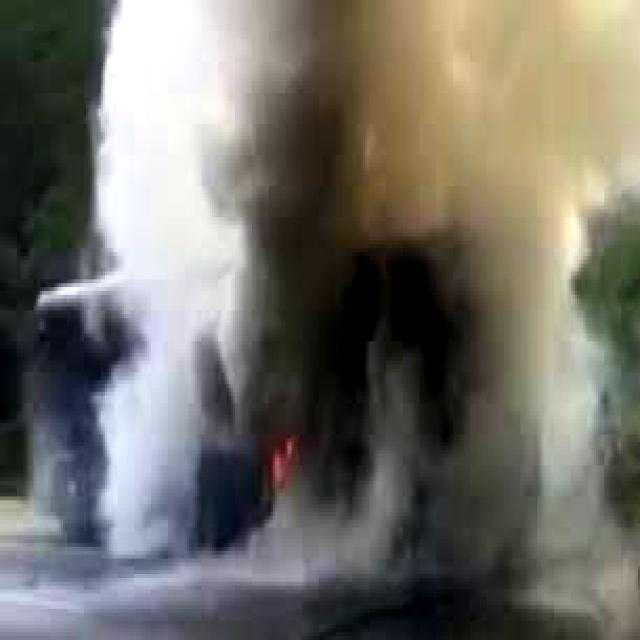Smoke: (85, 0, 638, 589)
